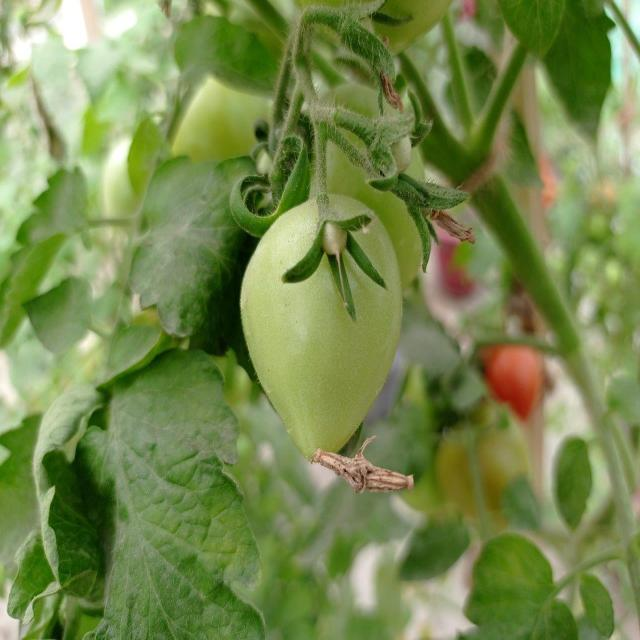Unripe: (242, 188, 403, 457)
